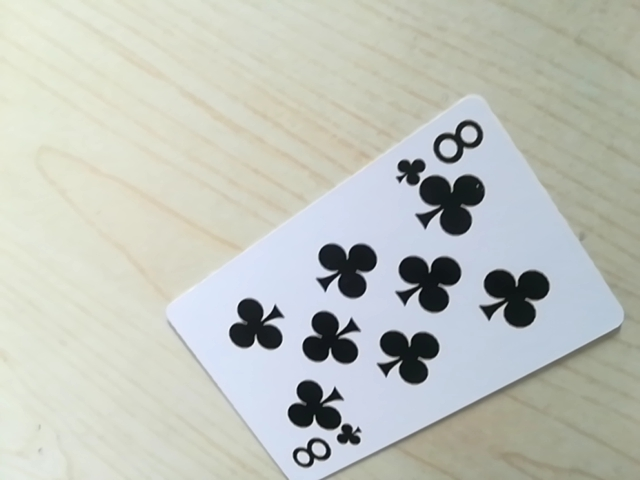mh 8: (396, 116, 492, 178), (286, 428, 361, 479)
